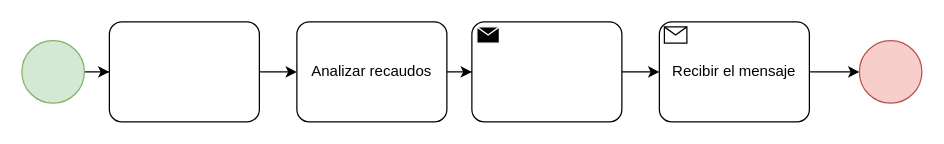
This 944x144 diagram has some shape labels left out. Each missing label, with the centre of its shape:
"Devolver respuesta por correo" belongs at (x=546, y=71).
"Recibir recaudos de credito" belongs at (x=183, y=71).
